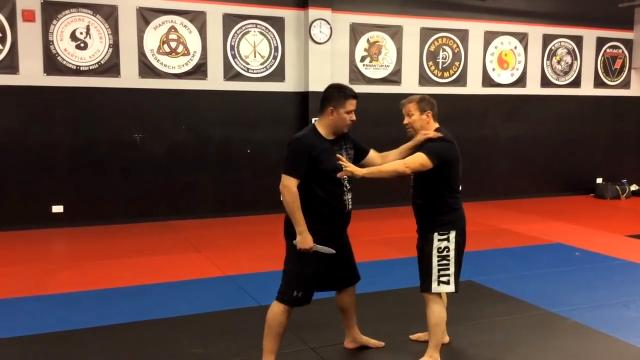pocket-knife: (289, 232, 339, 266)
